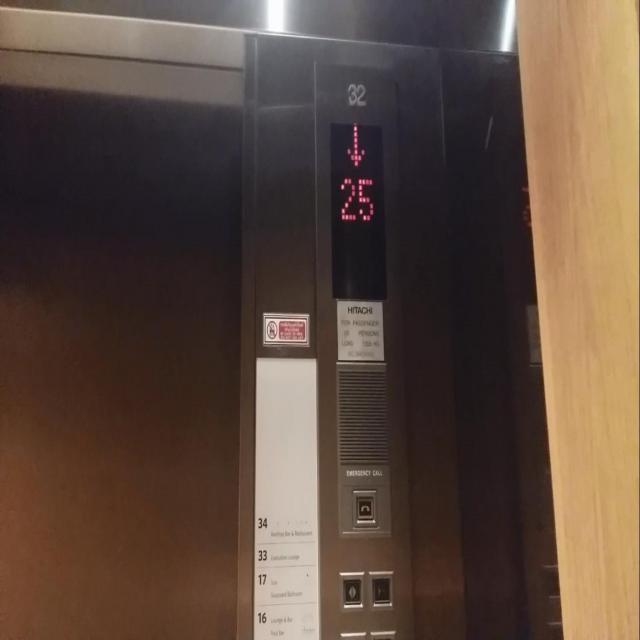call: (352, 488, 377, 526)
close: (368, 570, 396, 610)
led: (330, 119, 386, 303)
open: (340, 570, 364, 612)
